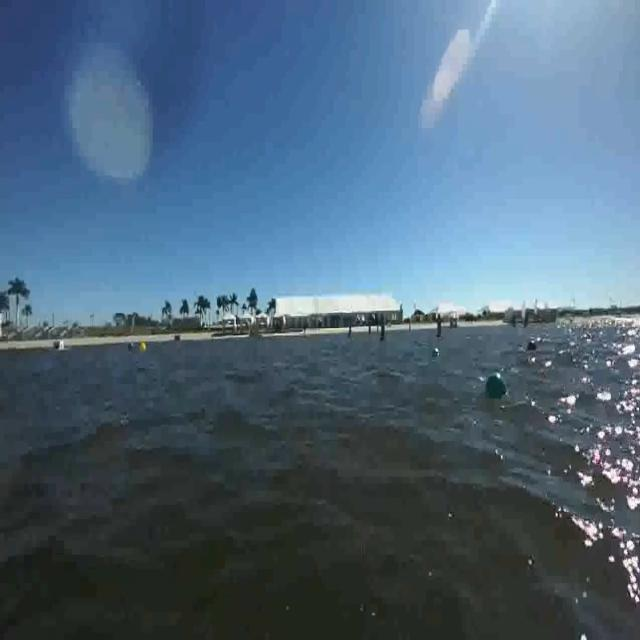yellow-buoy: (138, 338, 148, 360)
